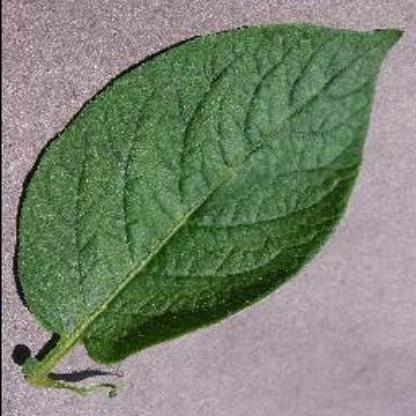Healthy-plant: (18, 16, 406, 390)
